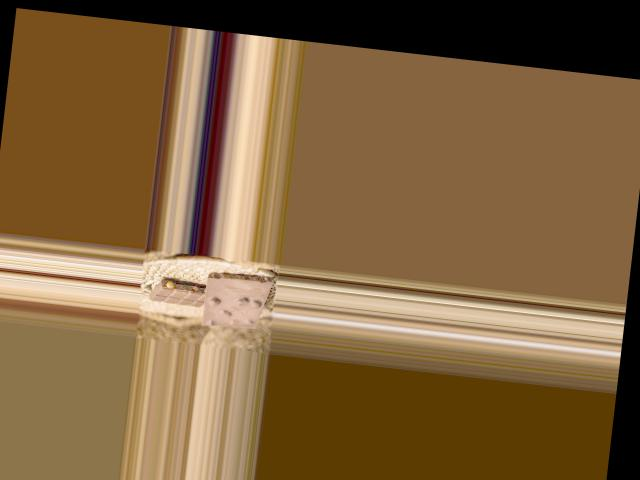chocolate: (197, 269, 273, 333)
